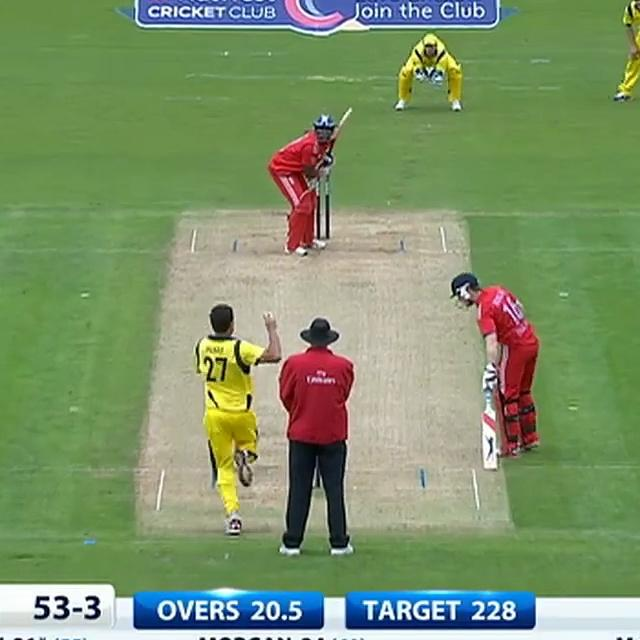umpire: (266, 310, 368, 558)
